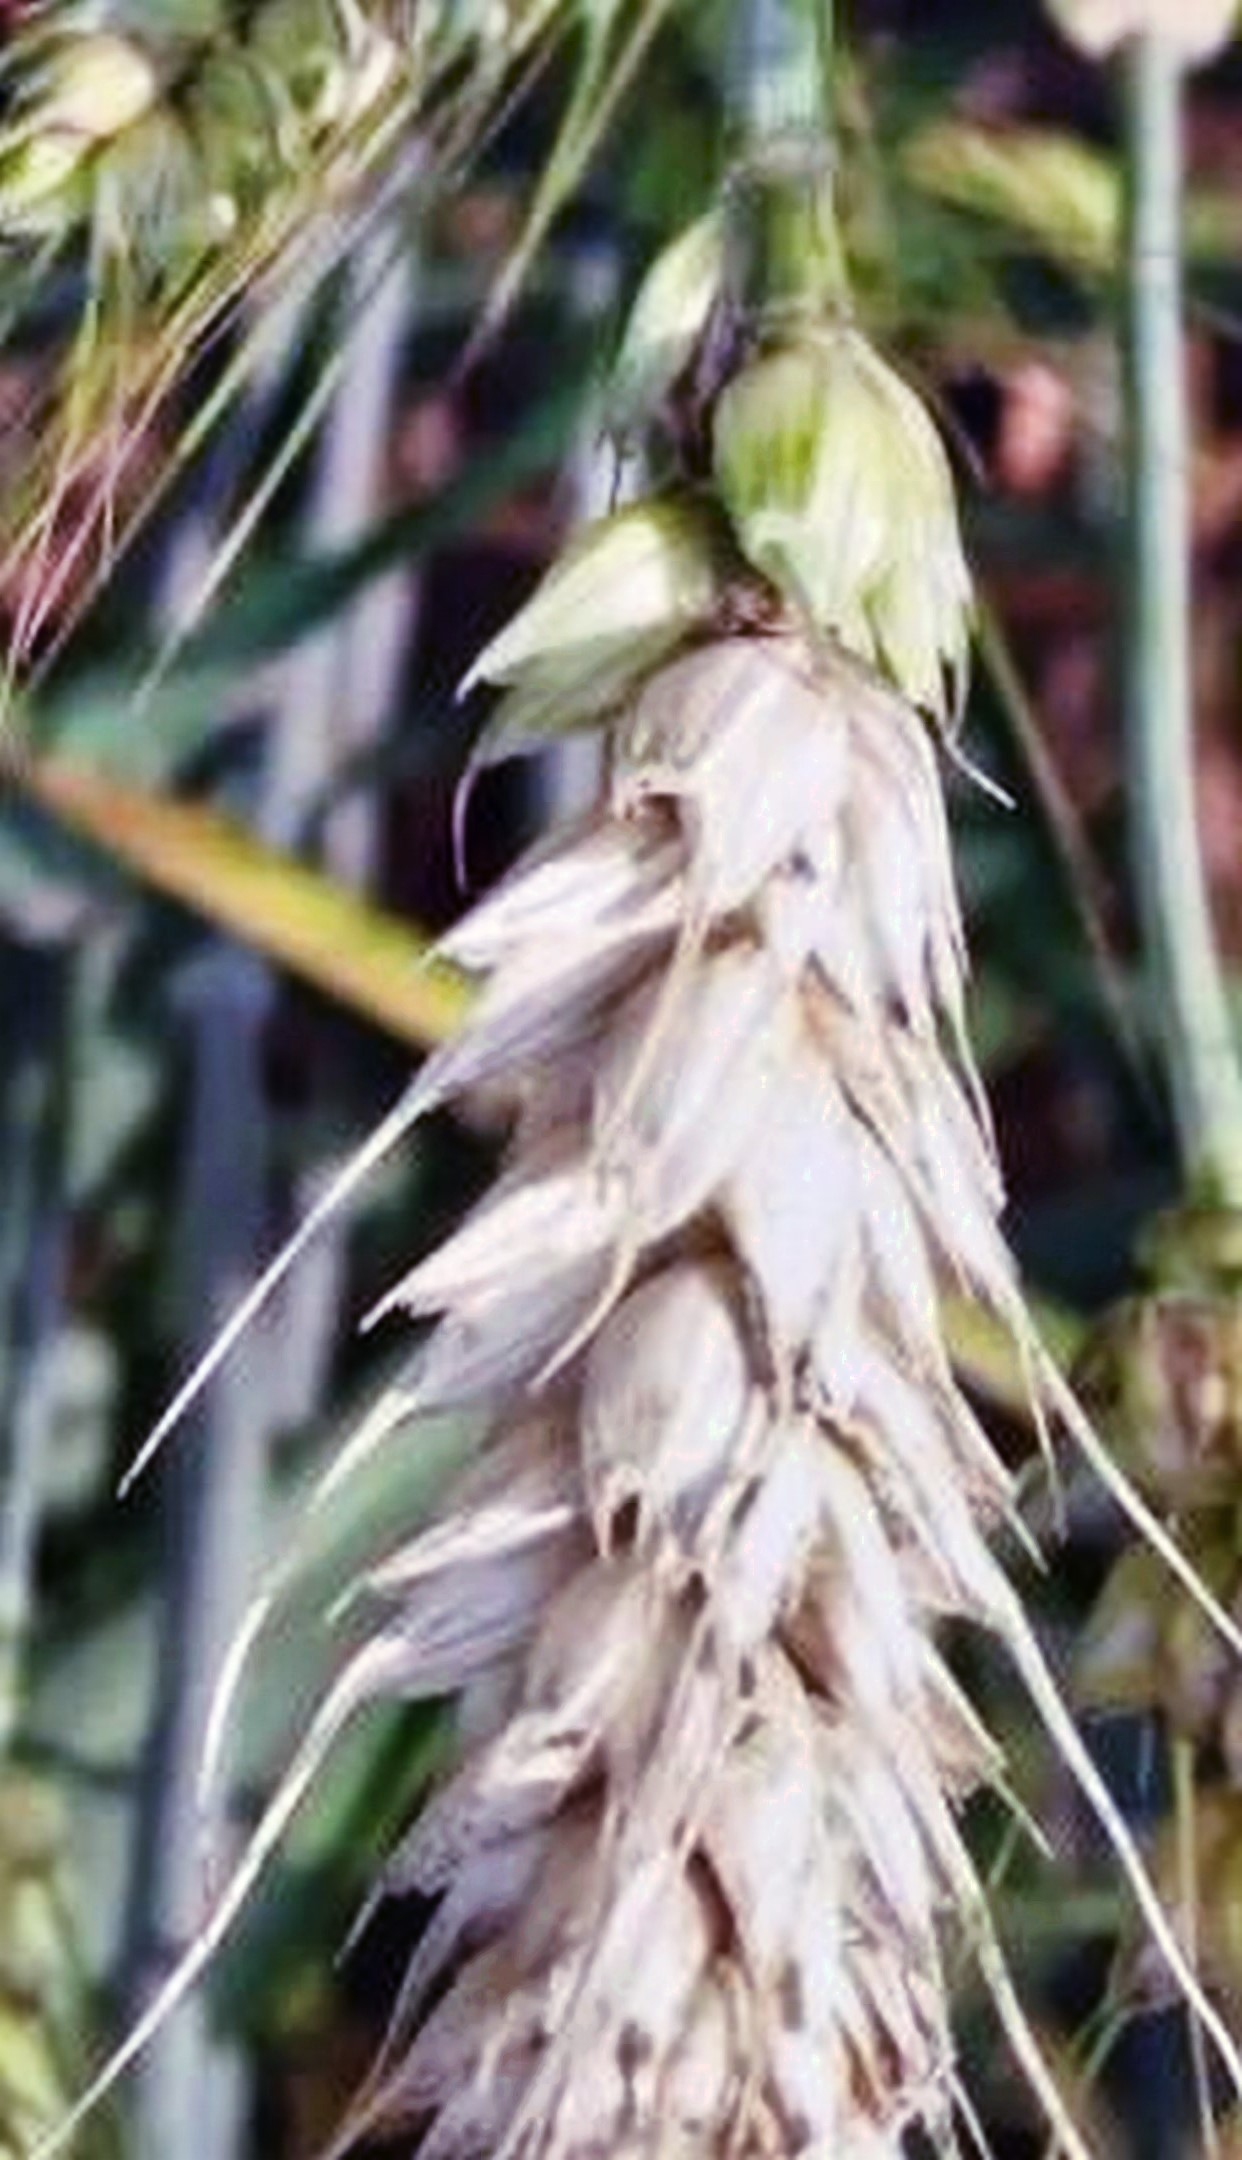Wheat scab: (358, 257, 1088, 2160)
